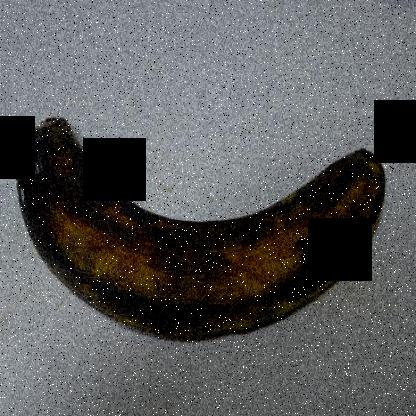overripe: (1, 94, 403, 398)
